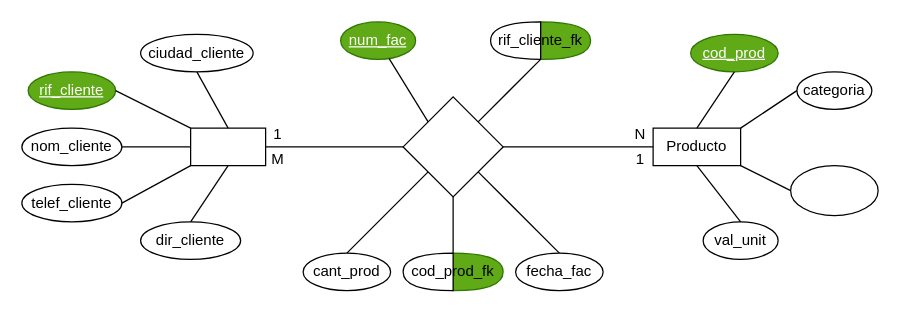
Some shapes in this 900 by 313 pixel diagram are drawn without their labels. The shapes that lost their labels are listed below. From the top down, each one's centre as x and y in pixels, then its label:
At [227,146]: "Cliente".
At [452,146]: "Facturar N:M".
At [833,190]: "descripcion".
